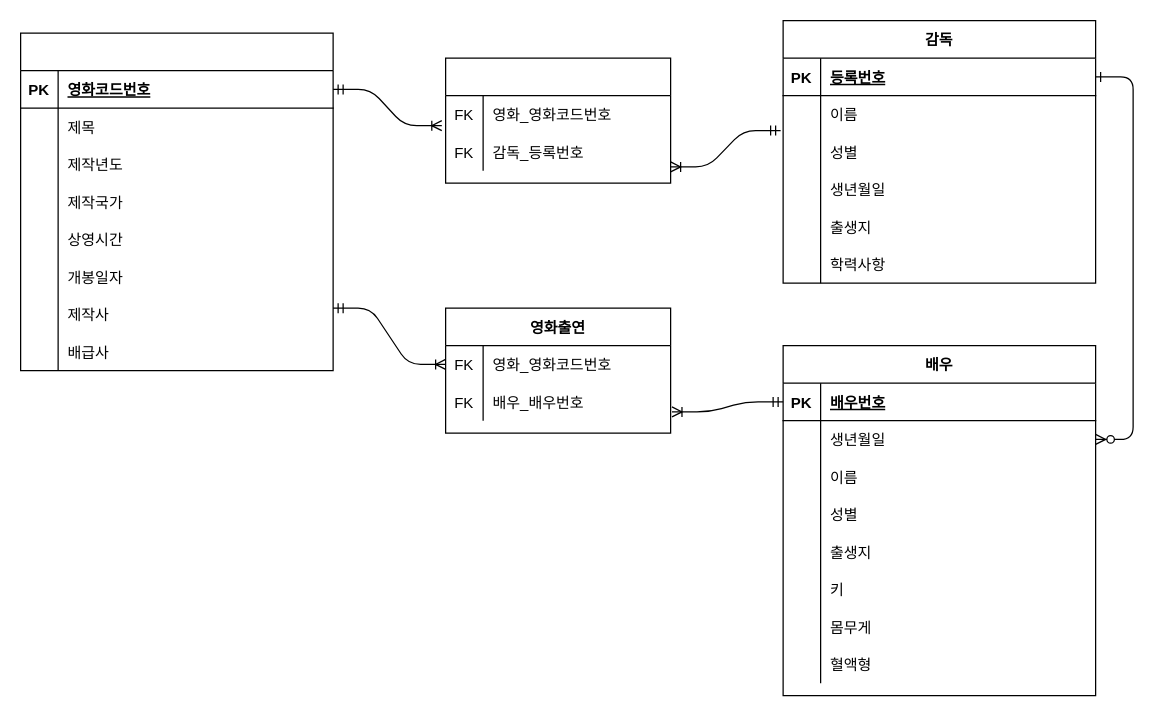
This 1154x716 diagram has some shape labels left out. The shapes that lost their labels are listed below. From the top down, each one's box as (x1, y1, x2, y2) in pixels, then its label:
(444, 57, 671, 183): 영화제작
(19, 32, 333, 371): 영화
